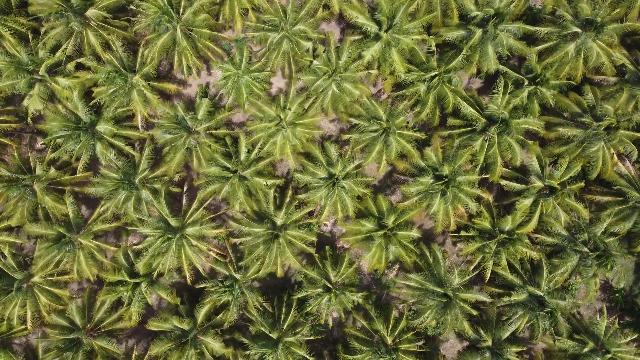trees: (434, 80, 545, 185), (538, 86, 639, 189), (489, 241, 593, 338), (526, 4, 639, 89), (133, 191, 231, 288), (23, 203, 127, 291), (502, 148, 596, 242), (552, 191, 638, 290), (402, 249, 493, 342), (2, 141, 92, 233), (406, 142, 494, 235), (343, 4, 435, 91), (391, 38, 478, 128), (194, 128, 284, 214), (294, 250, 382, 337), (340, 195, 431, 279), (229, 198, 316, 285), (149, 93, 235, 181), (86, 143, 172, 229), (442, 6, 538, 82), (39, 85, 121, 173), (38, 288, 138, 360), (457, 204, 541, 289), (37, 3, 136, 75), (292, 143, 377, 226), (343, 99, 428, 181), (135, 3, 225, 79), (243, 4, 329, 83), (244, 91, 322, 173), (88, 57, 169, 132), (300, 38, 373, 119), (145, 293, 232, 360), (233, 297, 320, 360), (3, 268, 62, 341), (210, 47, 273, 113), (2, 26, 53, 105)
